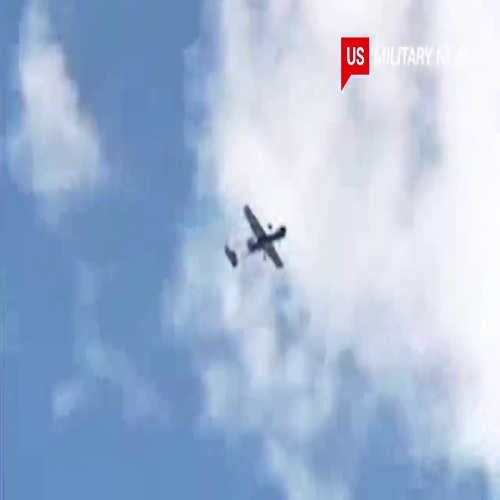uav223: (222, 202, 288, 271)
